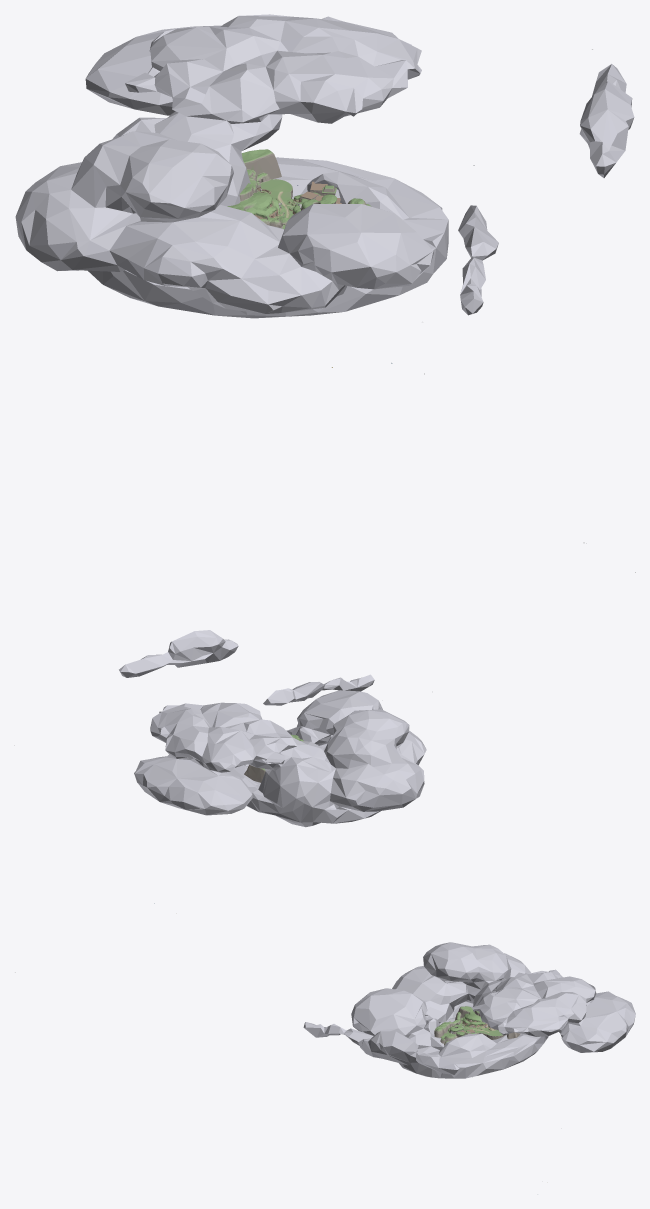
File: BstBaked.glb
3 renders of one model, top to bottom at view 1: azimuth 30°, elevation 25°; view 2: azimuth 150°, elevation 25°; view 3: azimuth 270°, elevation 25°, orthographic. The views are drawn at different scales.
Parts seen in each view (by area): view 1: BstBaked_cloud, BstBaked_terrain; view 2: BstBaked_cloud; view 3: BstBaked_cloud, BstBaked_terrain.
Part boxes in pixels (bbox=[...]): BstBaked_cloud: bbox=[15, 14, 634, 318]; BstBaked_terrain: bbox=[227, 149, 371, 229]; BstBaked_cloud: bbox=[119, 630, 426, 827]; BstBaked_cloud: bbox=[303, 942, 635, 1078]; BstBaked_terrain: bbox=[434, 1006, 520, 1045].
Bounding box in the file's own units: 591 × 319 × 995.
